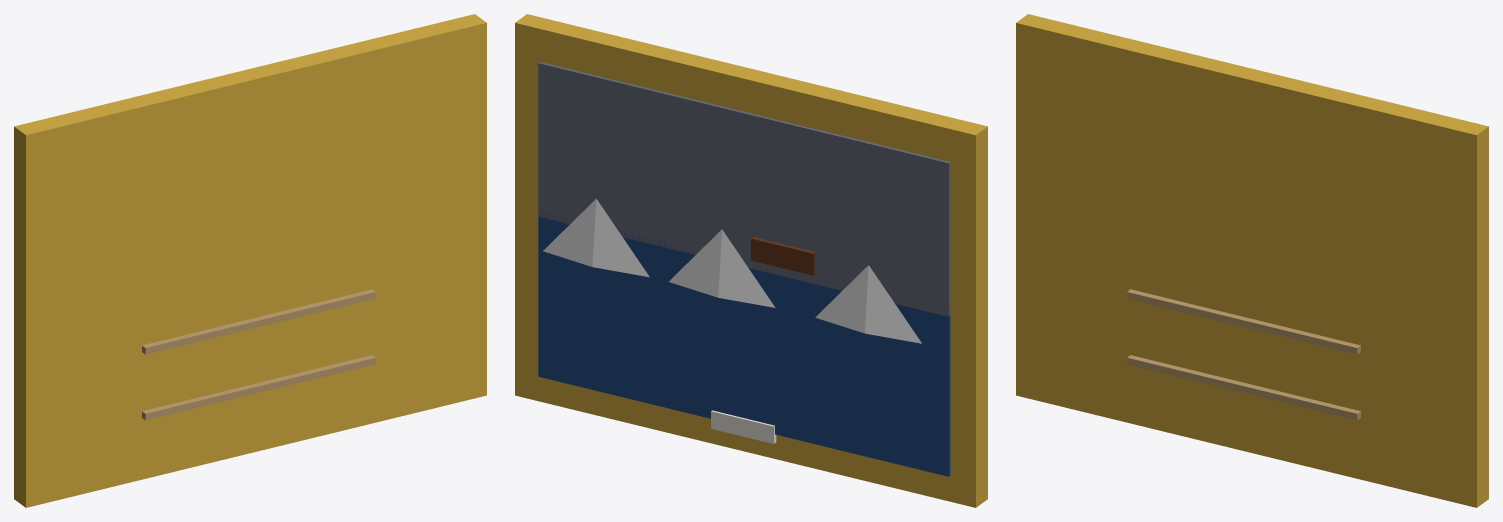
The model's file is cart_painting.glb.
The picture shows the model from 3 angles, left to right: view 1: azimuth 30°, elevation 25°; view 2: azimuth 150°, elevation 25°; view 3: azimuth 330°, elevation 25°; orthographic projection.
Visible parts, largest first — view 1: frame_auction_gold, ropes_rope_tan (×2); view 2: sky_storm_grey, sea_sea_blue, frame_auction_gold, waves_foam_white (×3), boat_boat_brown, label_museum_label; view 3: frame_auction_gold, ropes_rope_tan (×2).
Boxes of the visible parts, x1,y1,x2,y2 form: frame_auction_gold: (14, 14, 486, 507); ropes_rope_tan (×2): (142, 289, 375, 420); sky_storm_grey: (538, 62, 950, 316); sea_sea_blue: (538, 211, 950, 476); frame_auction_gold: (515, 14, 987, 507); waves_foam_white (×3): (543, 198, 921, 343); boat_boat_brown: (751, 237, 816, 275); label_museum_label: (711, 410, 776, 443); frame_auction_gold: (1016, 14, 1488, 507); ropes_rope_tan (×2): (1127, 289, 1360, 420).
Bounding box in the file's own units: 2.2 × 1.7 × 0.187.
